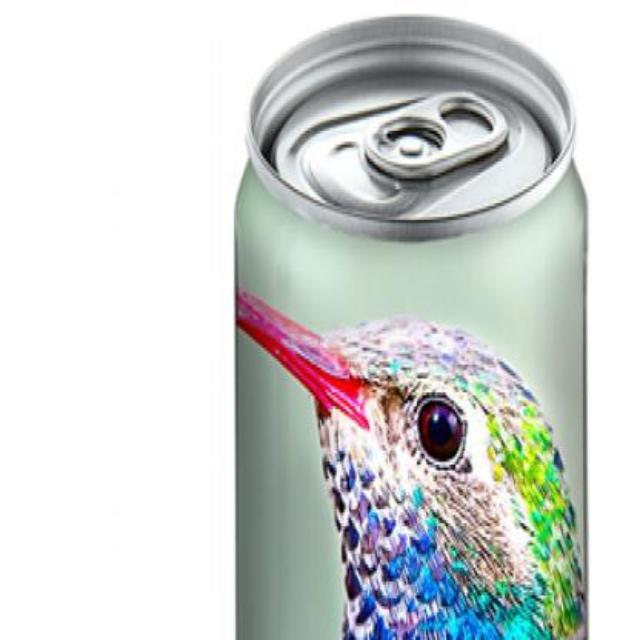metal: (234, 15, 585, 637)
